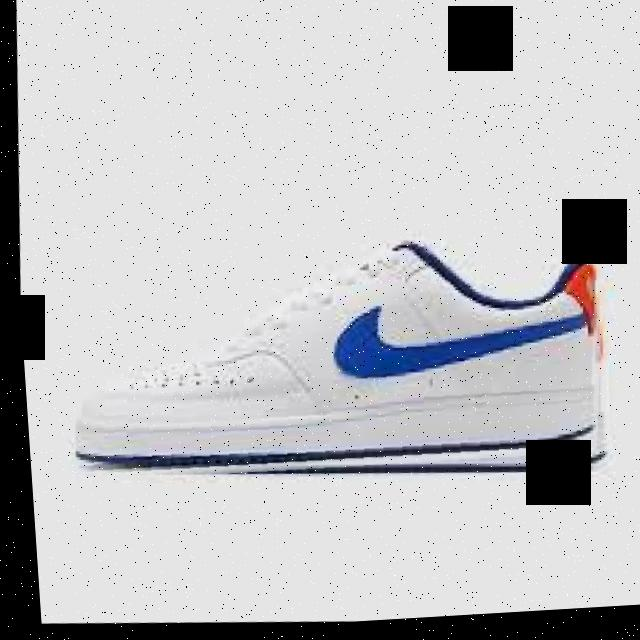shoe: (57, 219, 615, 512)
